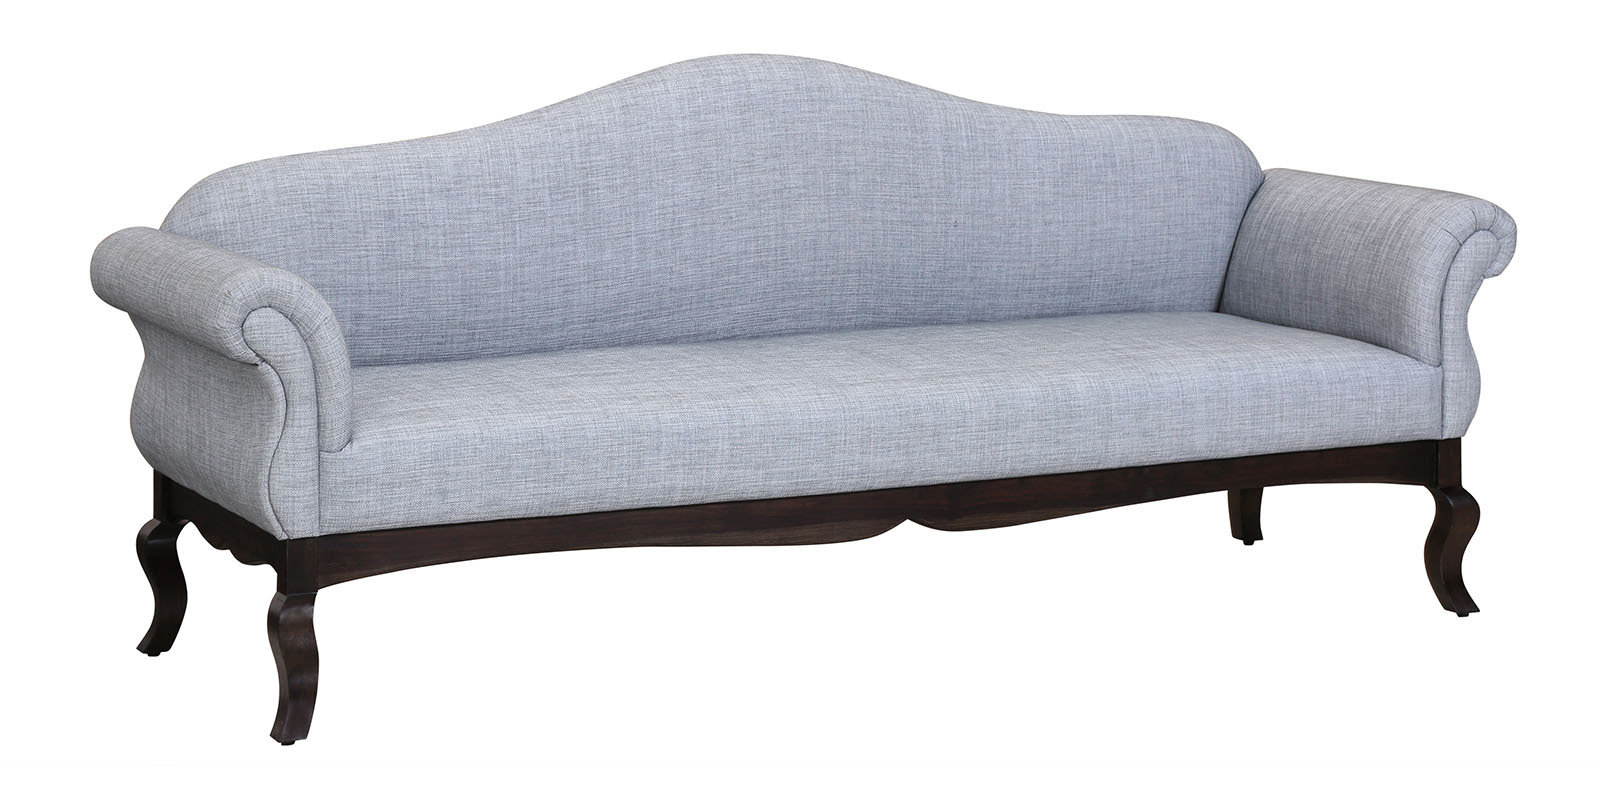Anne Three Seater Sofa in Warm Chestnut Finish by Amberville: (90, 51, 1528, 660)
